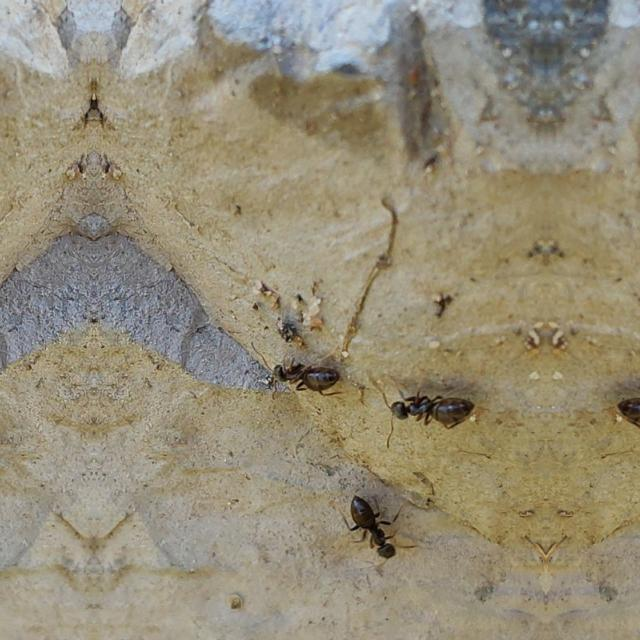Lasius: (374, 383, 480, 441), (348, 488, 400, 562), (264, 353, 336, 399), (612, 383, 640, 441)
